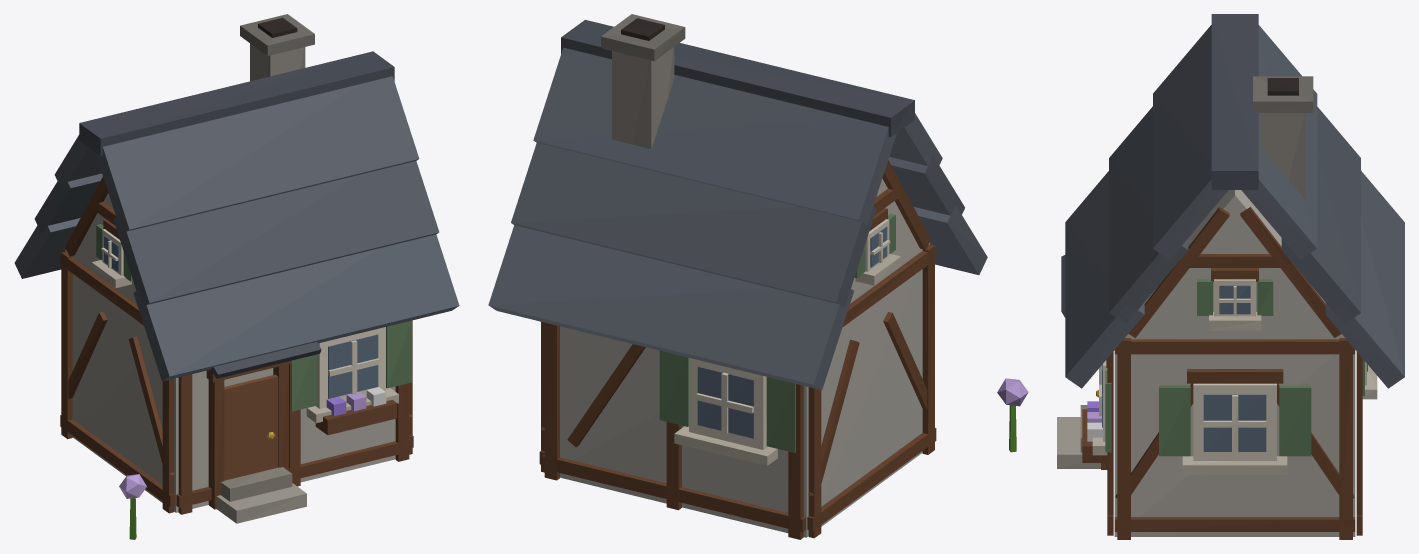
File: maison-lande.glb
3 views of the same model, side by side, from view 1: azimuth 30°, elevation 25°; view 2: azimuth 150°, elevation 25°; view 3: azimuth 270°, elevation 25° (orthographic). The views are drawn at different scales.
Bounding box in the file's own units: 5.83 × 6.5 × 4.84.
